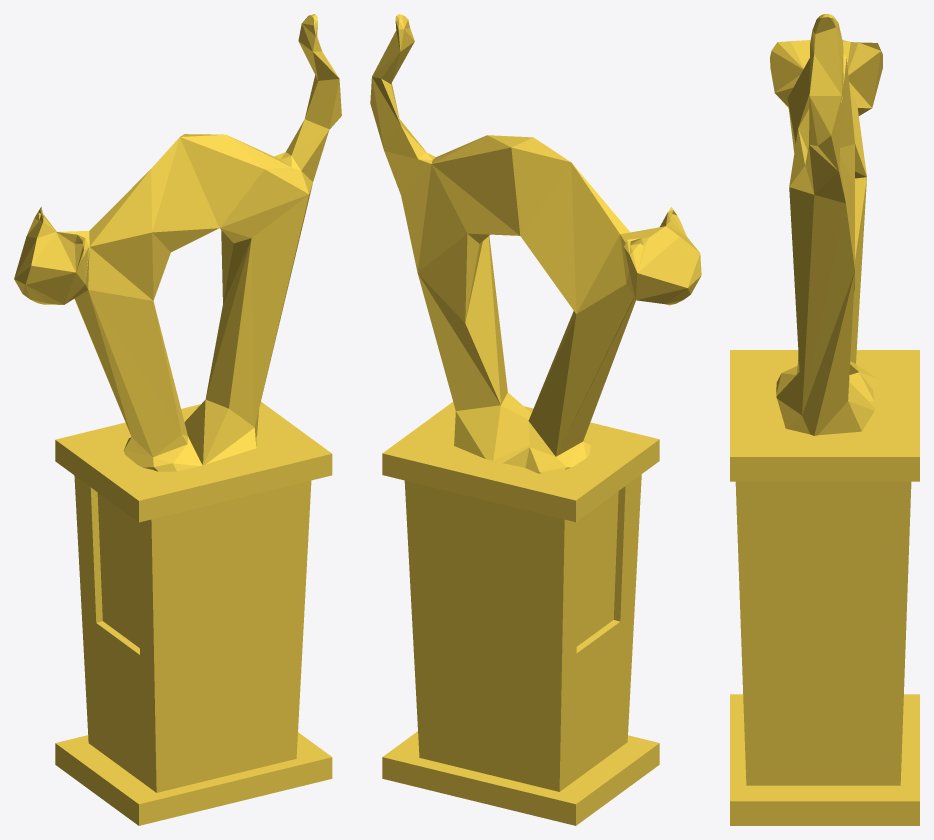
File: goldCat.FBX
3 views of the same model, side by side, from view 1: azimuth 30°, elevation 25°; view 2: azimuth 150°, elevation 25°; view 3: azimuth 270°, elevation 25° (orthographic). The views are drawn at different scales.
Parts seen in each view (by area): view 1: Box231; view 2: Box231; view 3: Box231.
Boxes of the visible parts, box(x1,y1,x2,y2) form: Box231: box(14, 14, 341, 825); Box231: box(370, 14, 701, 825); Box231: box(730, 14, 919, 825).
Size of the model in its own units: 10.44 by 22.51 by 4.69.
